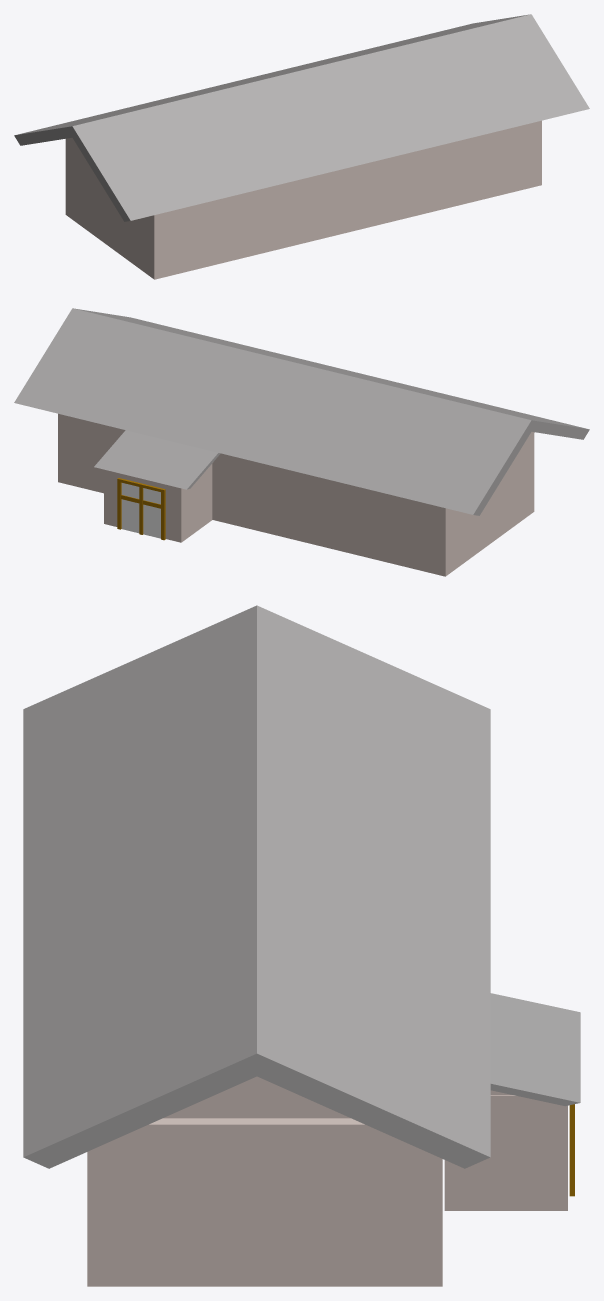
The model's file is Administration.glb.
3 views of the same model, one above another, from view 1: azimuth 30°, elevation 25°; view 2: azimuth 150°, elevation 25°; view 3: azimuth 270°, elevation 25° (orthographic). The views are drawn at different scales.
Visible parts, largest first — view 1: mergedBlocks; view 2: mergedBlocks; view 3: mergedBlocks.
Boxes of the visible parts, box(x1,y1,x2,y2) form: mergedBlocks: box(14, 14, 589, 279); mergedBlocks: box(14, 308, 589, 576); mergedBlocks: box(23, 605, 580, 1286).
Bounding box in the file's own units: 5.93 × 1.63 × 3.12.
